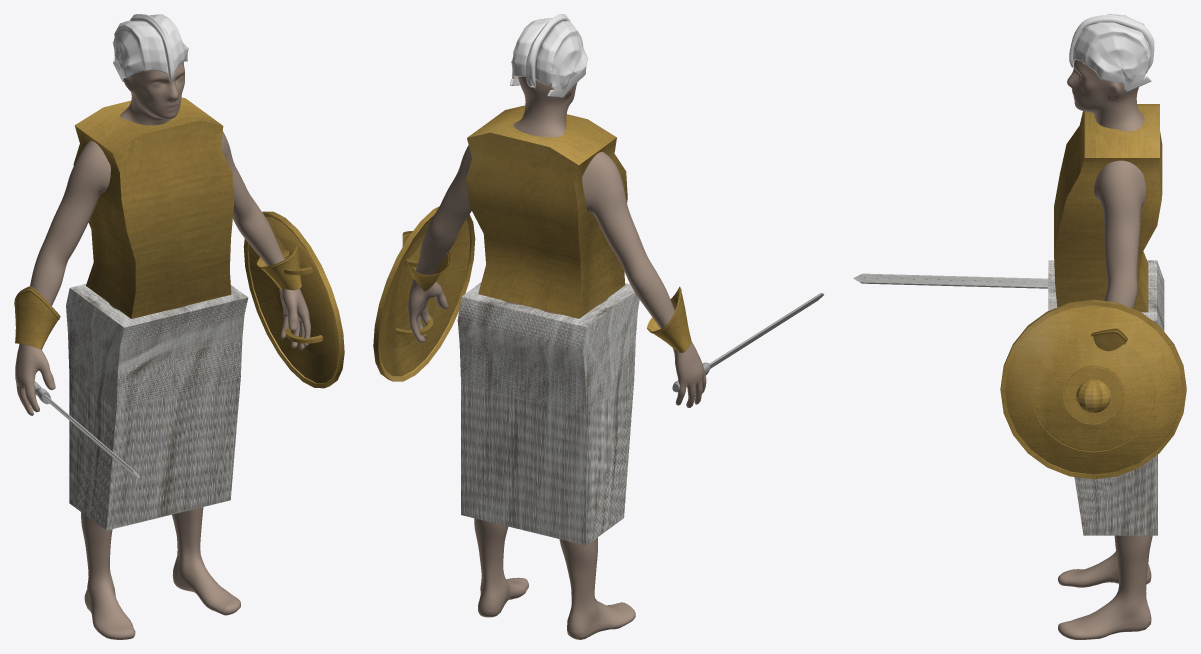
File: Soldier Level_3.fbx
The picture shows the model from 3 angles, left to right: view 1: azimuth 30°, elevation 25°; view 2: azimuth 150°, elevation 25°; view 3: azimuth 270°, elevation 25°; orthographic projection.
Parts seen in each view (by area): view 1: pCube4, pCube5, humanBody, polySurface1, polySurface143, polySurface3, polySurface142, polySurface149, polySurface146, pCube1; view 2: pCube4, pCube5, humanBody, polySurface1, polySurface143, polySurface3, polySurface142, polySurface149, polySurface146, pCube1; view 3: polySurface2, humanBody, pCube5, pCube4, polySurface143, polySurface3, pCube1, pSphere1, polySurface146, polySurface149.
Part boxes in pixels (left/top/right/bottom): pCube4: left=66, top=283, right=248, bottom=530; pCube5: left=73, top=97, right=233, bottom=318; humanBody: left=15, top=31, right=310, bottom=639; polySurface1: left=248, top=217, right=338, bottom=382; polySurface143: left=112, top=14, right=188, bottom=81; polySurface3: left=243, top=211, right=344, bottom=388; polySurface142: left=14, top=286, right=60, bottom=349; polySurface149: left=257, top=237, right=301, bottom=290; polySurface146: left=129, top=14, right=174, bottom=82; pCube1: left=44, top=394, right=140, bottom=478; pCube4: left=457, top=282, right=639, bottom=545; pCube5: left=465, top=105, right=627, bottom=318; humanBody: left=407, top=76, right=706, bottom=639; polySurface1: left=379, top=219, right=470, bottom=376; polySurface143: left=510, top=18, right=587, bottom=97; polySurface3: left=373, top=206, right=475, bottom=381; polySurface142: left=647, top=286, right=691, bottom=352; polySurface149: left=402, top=231, right=450, bottom=291; polySurface146: left=526, top=14, right=570, bottom=88; pCube1: left=709, top=293, right=824, bottom=368; polySurface2: left=1005, top=305, right=1182, bottom=474; humanBody: left=1058, top=60, right=1152, bottom=639; pCube5: left=1054, top=104, right=1162, bottom=312; pCube4: left=1048, top=260, right=1164, bottom=535; polySurface143: left=1072, top=14, right=1151, bottom=91; polySurface3: left=1000, top=299, right=1186, bottom=479; pCube1: left=853, top=273, right=1048, bottom=288; pSphere1: left=1076, top=379, right=1110, bottom=413; polySurface146: left=1069, top=15, right=1154, bottom=68; polySurface149: left=1091, top=328, right=1128, bottom=351.
Bounding box in the file's own units: 19.84 × 37.06 × 18.9.
